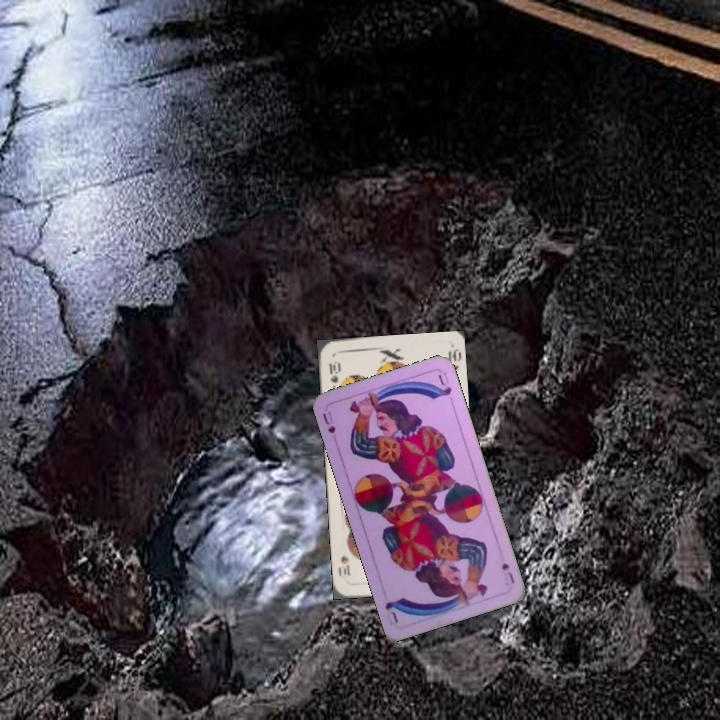S10: (325, 357, 341, 394)
SU: (318, 407, 338, 436), (497, 559, 517, 586)
